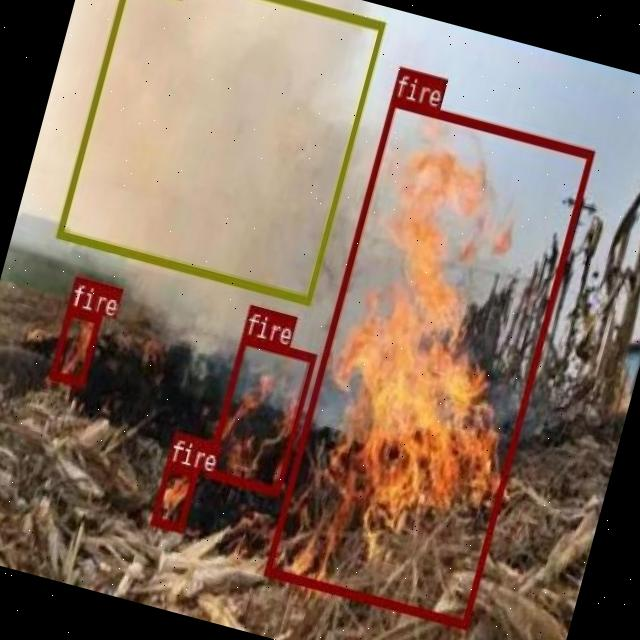smoke: (55, 0, 384, 303)
